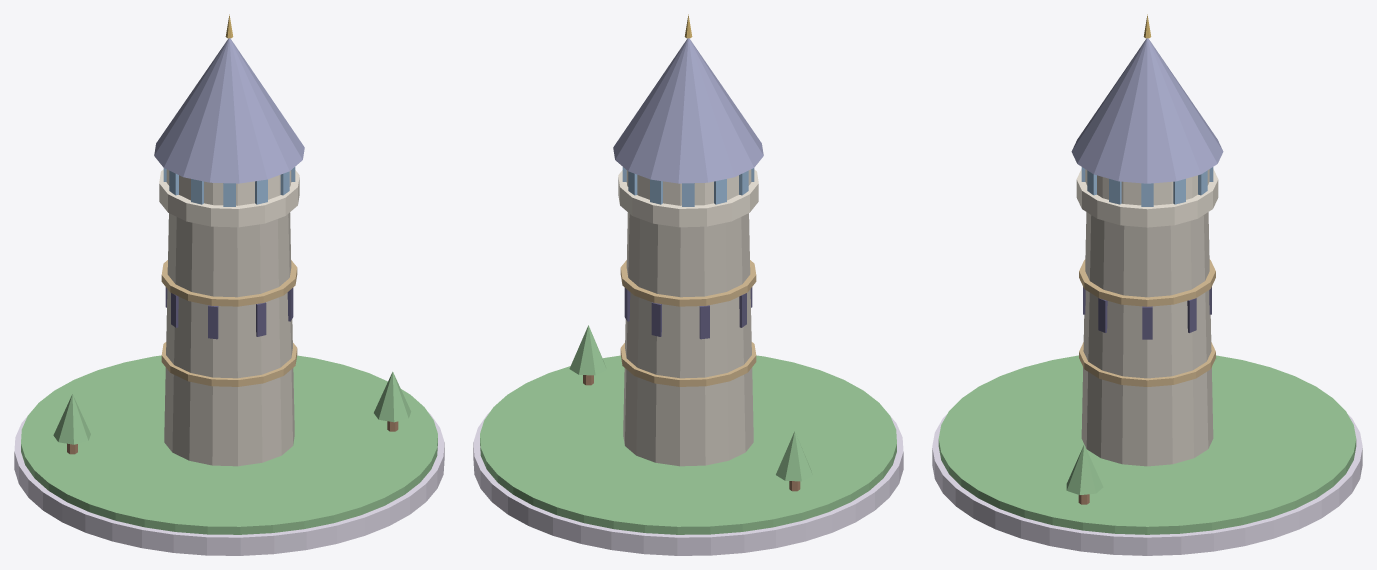
The model's file is galata.glb.
3 renders of one model, left to right at view 1: azimuth 30°, elevation 25°; view 2: azimuth 150°, elevation 25°; view 3: azimuth 270°, elevation 25°, orthographic.
Parts seen in each view (by area): view 1: galata; view 2: galata; view 3: galata.
Part boxes in pixels (left/top/right/bottom): galata: left=14, top=14, right=444, bottom=555; galata: left=473, top=14, right=903, bottom=555; galata: left=932, top=14, right=1362, bottom=555.
Bounding box in the file's own units: 1.7 × 1.96 × 1.7.
1 material, 1 textured.
